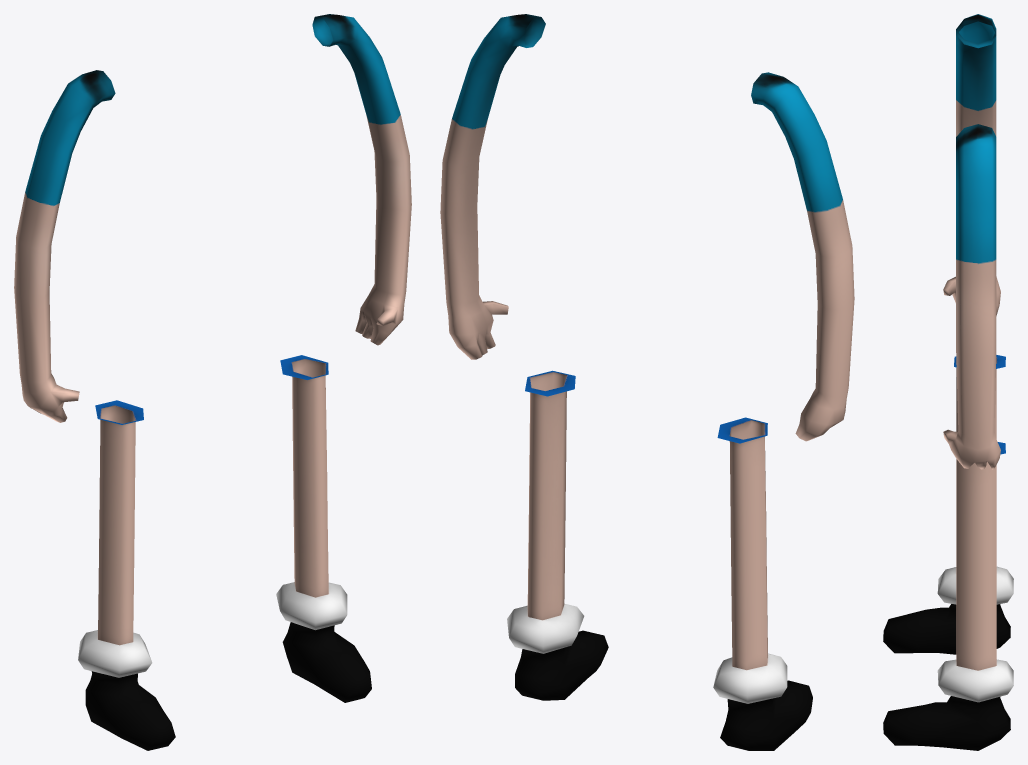
Rendered from PiernaIzquierda.obj.
The picture shows the model from 3 angles, left to right: view 1: azimuth 30°, elevation 25°; view 2: azimuth 150°, elevation 25°; view 3: azimuth 270°, elevation 25°; orthographic projection. The views are drawn at different scales.
Parts seen in each view (by area): view 1: Finn; view 2: Finn; view 3: Finn.
Part boxes in pixels (x1,y1,x2,y2): Finn: (14,14,411,750); Finn: (440,14,854,750); Finn: (883,14,1013,750).
Size of the model in its own units: 35.03 by 55.26 by 10.52.
1 material, 1 textured.
